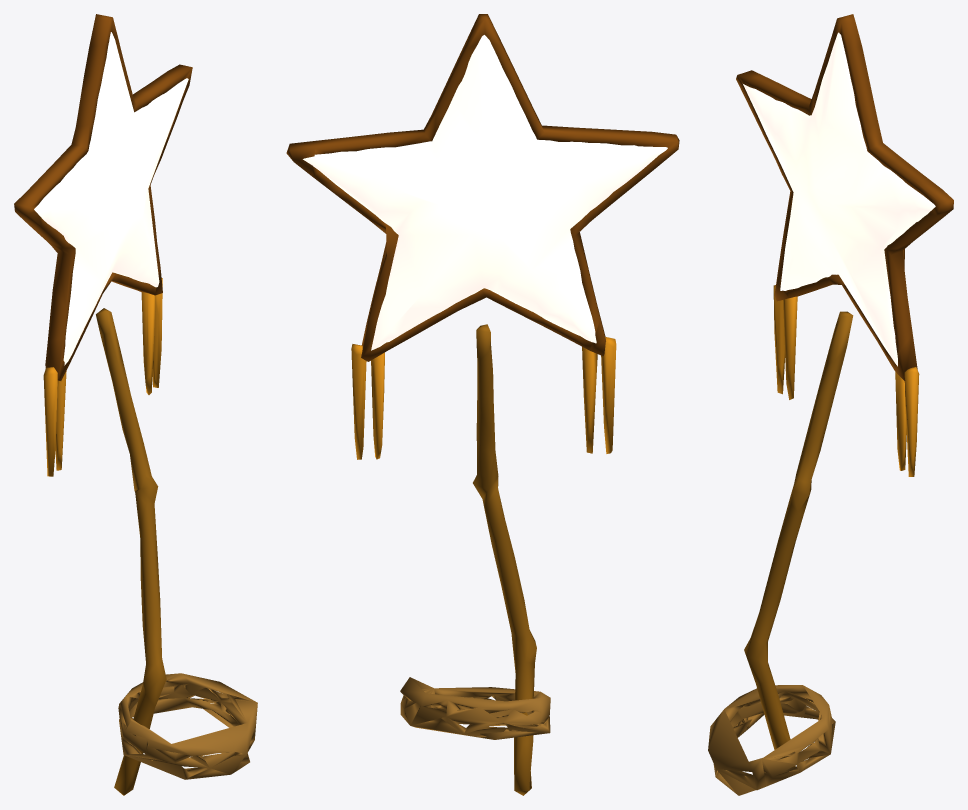
The model's file is denlong.glb.
3 renders of one model, left to right at view 1: azimuth 30°, elevation 25°; view 2: azimuth 150°, elevation 25°; view 3: azimuth 270°, elevation 25°, orthographic. The views are drawn at different scales.
Visible parts, largest first — view 1: Ong_Sao, Khung_Tre, Day_Buoc, Can_Tre, Tua_Giay; view 2: Ong_Sao, Khung_Tre, Can_Tre, Day_Buoc, Tua_Giay; view 3: Ong_Sao, Khung_Tre, Can_Tre, Day_Buoc, Tua_Giay.
Boxes of the visible parts, left/top/right/bottom form: Ong_Sao: left=34, top=32, right=188, bottom=365; Khung_Tre: left=14, top=14, right=192, bottom=380; Day_Buoc: left=118, top=673, right=257, bottom=779; Can_Tre: left=96, top=308, right=166, bottom=795; Tua_Giay: left=43, top=278, right=162, bottom=476; Ong_Sao: left=303, top=35, right=667, bottom=350; Khung_Tre: left=286, top=14, right=679, bottom=361; Can_Tre: left=473, top=324, right=536, bottom=795; Day_Buoc: left=400, top=677, right=550, bottom=739; Tua_Giay: left=351, top=337, right=616, bottom=459; Ong_Sao: left=743, top=32, right=935, bottom=366; Khung_Tre: left=736, top=14, right=953, bottom=380; Can_Tre: left=744, top=311, right=853, bottom=767; Day_Buoc: left=708, top=685, right=835, bottom=795; Tua_Giay: left=773, top=285, right=919, bottom=476.
Size of the model in its own units: 0.1407 by 0.3728 by 0.1092.
